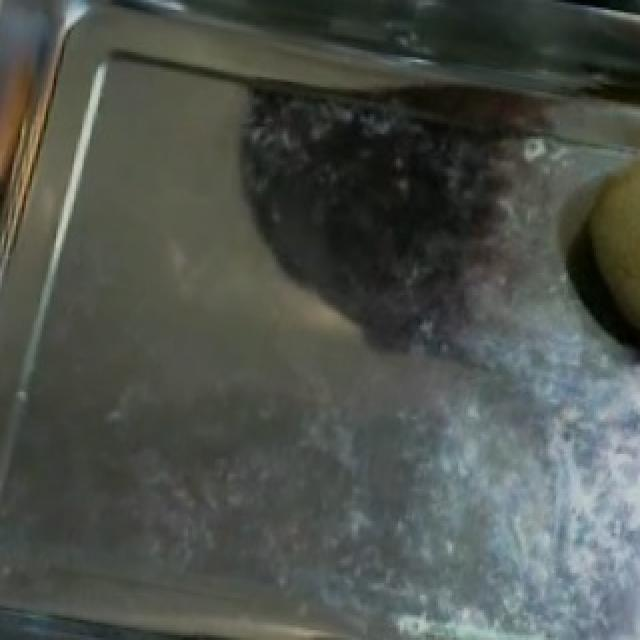Fruit: (550, 117, 640, 377), (0, 0, 68, 241)
